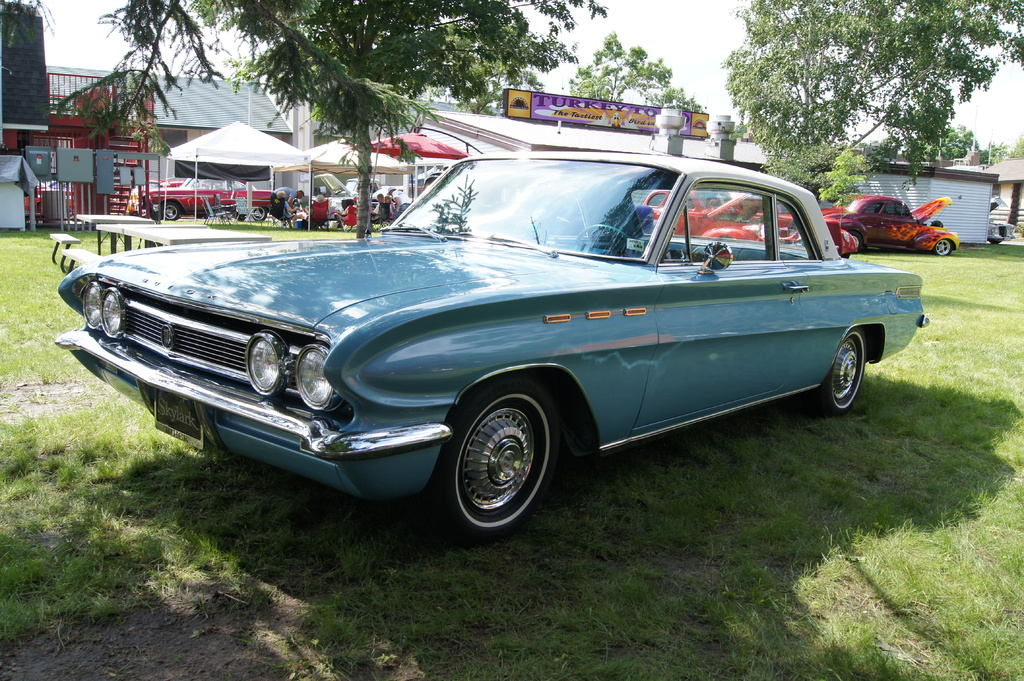mobil: (59, 147, 958, 515)
